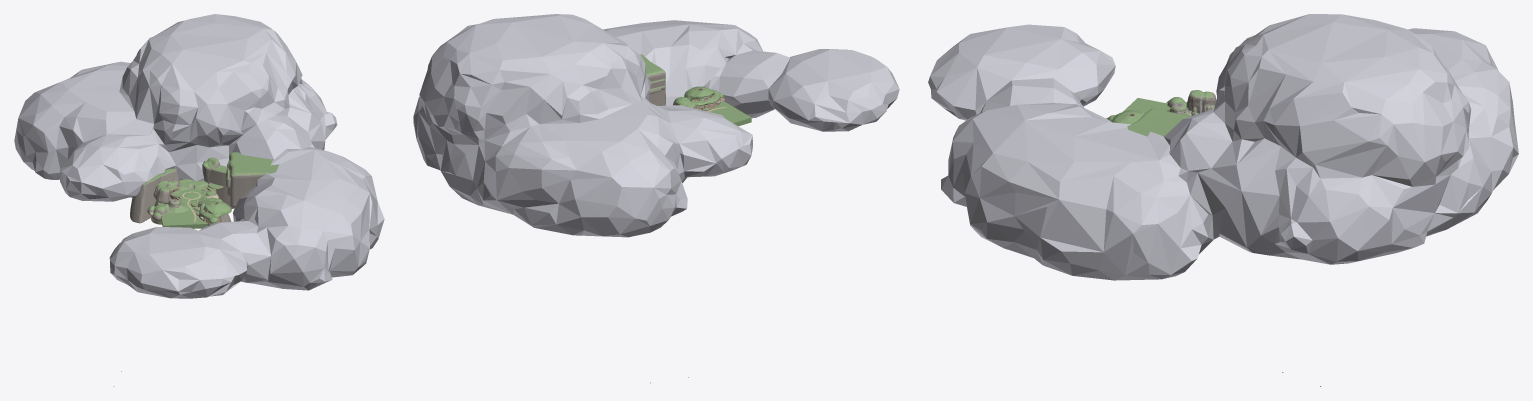
The model's file is BstBaked.glb.
The picture shows the model from 3 angles, left to right: view 1: azimuth 30°, elevation 25°; view 2: azimuth 150°, elevation 25°; view 3: azimuth 270°, elevation 25°; orthographic projection. The views are drawn at different scales.
Parts seen in each view (by area): view 1: BstBaked_cloud, BstBaked_terrain; view 2: BstBaked_cloud, BstBaked_terrain; view 3: BstBaked_cloud, BstBaked_terrain.
Part boxes in pixels (<box>): BstBaked_cloud: <box>14,14,384,298</box>; BstBaked_terrain: <box>130,152,279,228</box>; BstBaked_cloud: <box>413,14,899,237</box>; BstBaked_terrain: <box>640,54,751,126</box>; BstBaked_cloud: <box>928,14,1518,280</box>; BstBaked_terrain: <box>1106,90,1216,136</box>.
Bounding box in the file's own units: 359 × 325 × 427.
